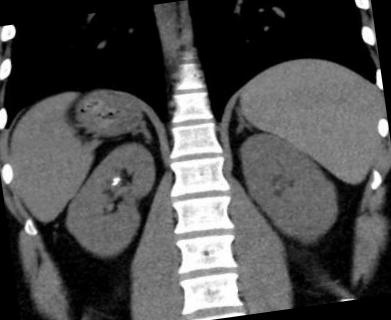Tas_Var: (112, 175, 121, 182), (110, 180, 118, 186)
